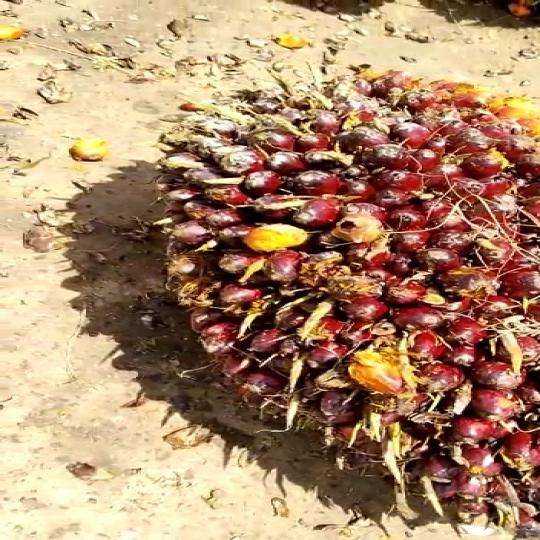kurang masak: (150, 74, 540, 517)
